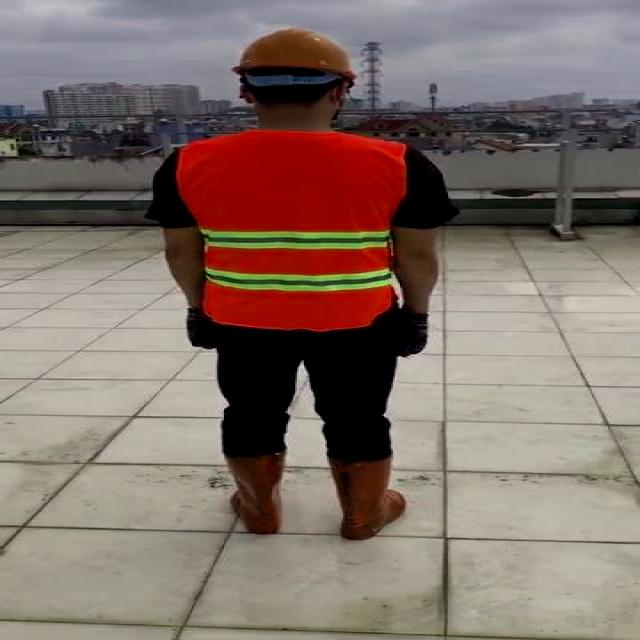boots: (331, 455, 407, 539), (222, 450, 288, 536)
hand_glove: (400, 313, 430, 357), (187, 308, 213, 350)
head_helmet: (233, 24, 350, 80)
person: (152, 24, 451, 542)
vest: (178, 132, 404, 330)
